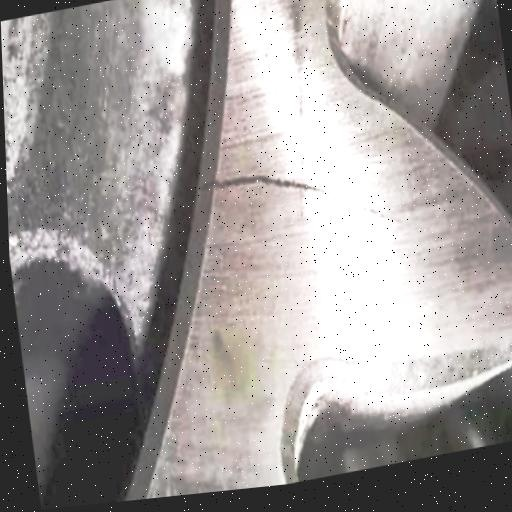crack: (194, 122, 417, 271)
